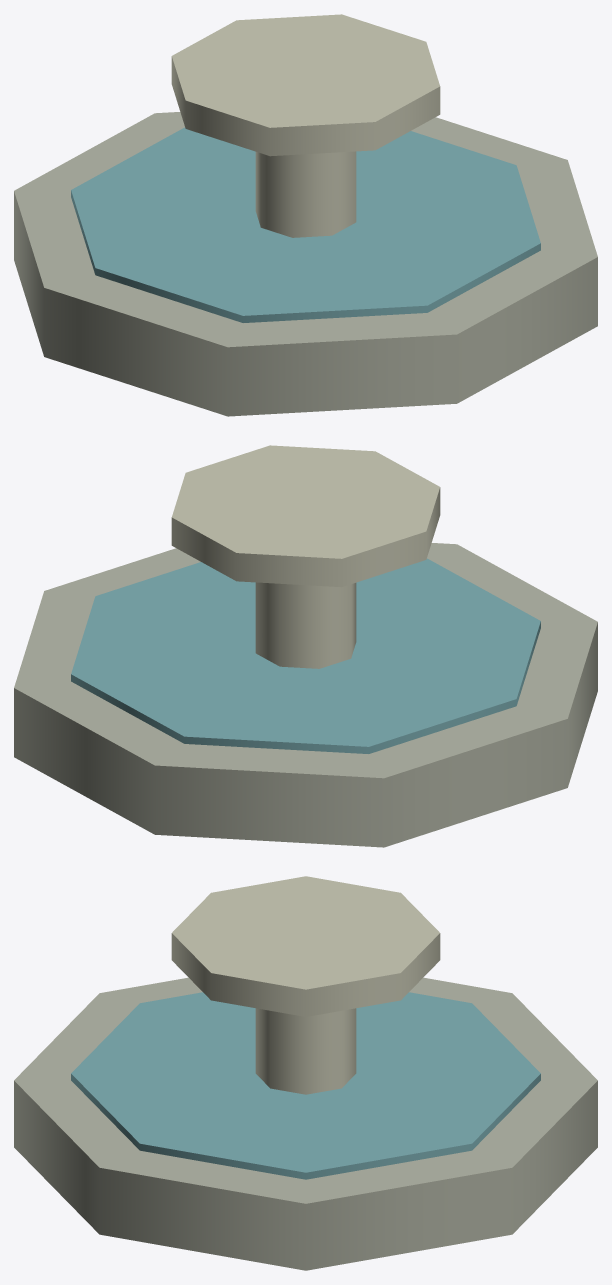
File: fountain-3.glb
3 views of the same model, one above another, from view 1: azimuth 30°, elevation 25°; view 2: azimuth 150°, elevation 25°; view 3: azimuth 270°, elevation 25° (orthographic). The views are drawn at different scales.
Parts seen in each view (by area): view 1: fountain-3-0; view 2: fountain-3-0; view 3: fountain-3-0.
Boxes of the visible parts, x1,y1,x2,y2 form: fountain-3-0: [14, 14, 597, 416]; fountain-3-0: [14, 445, 597, 847]; fountain-3-0: [14, 876, 597, 1270].
Bounding box in the file's own units: 1.74 × 0.705 × 1.74.
